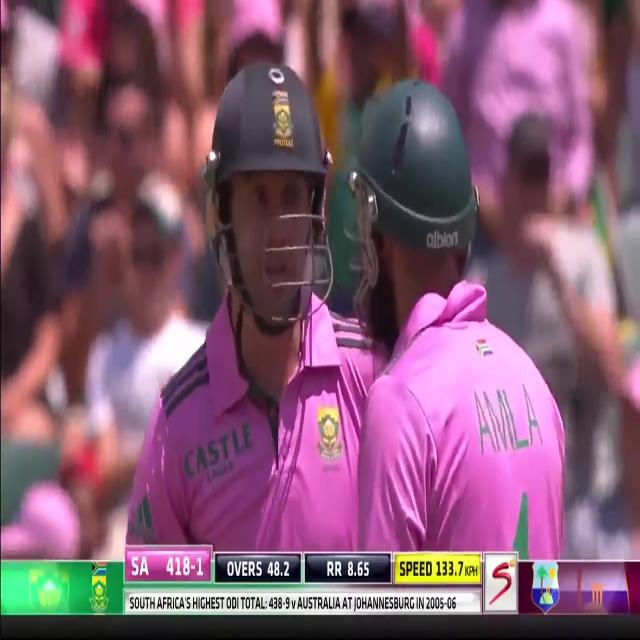Ball: (330, 79, 570, 557), (124, 59, 340, 553)
